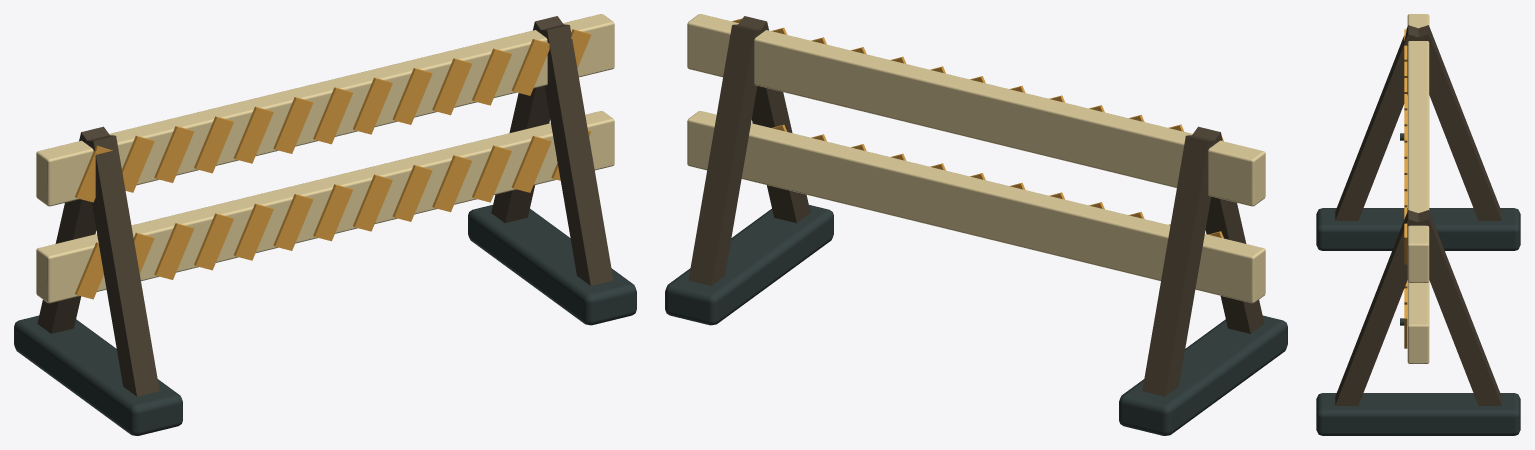
Rendered from SM_Checkpoint_01.glb.
3 views of the same model, side by side, from view 1: azimuth 30°, elevation 25°; view 2: azimuth 150°, elevation 25°; view 3: azimuth 270°, elevation 25° (orthographic). The views are drawn at different scales.
Visible parts, largest first — view 1: SM_Checkpoint_01_M_DH_cream, SM_Checkpoint_01_M_DH_ochre, SM_Checkpoint_01_M_DH_woodDark, SM_Checkpoint_01_M_DH_iron; view 2: SM_Checkpoint_01_M_DH_cream, SM_Checkpoint_01_M_DH_woodDark, SM_Checkpoint_01_M_DH_iron, SM_Checkpoint_01_M_DH_ochre; view 3: SM_Checkpoint_01_M_DH_woodDark, SM_Checkpoint_01_M_DH_iron, SM_Checkpoint_01_M_DH_cream, SM_Checkpoint_01_M_DH_ochre.
Boxes of the visible parts, x1,y1,x2,y2 form: SM_Checkpoint_01_M_DH_cream: (36,14,614,303); SM_Checkpoint_01_M_DH_ochre: (75,29,591,299); SM_Checkpoint_01_M_DH_woodDark: (37,16,613,396); SM_Checkpoint_01_M_DH_iron: (14,205,636,435); SM_Checkpoint_01_M_DH_cream: (687,14,1265,303); SM_Checkpoint_01_M_DH_woodDark: (688,16,1264,396); SM_Checkpoint_01_M_DH_iron: (665,205,1287,435); SM_Checkpoint_01_M_DH_ochre: (732,18,1223,238); SM_Checkpoint_01_M_DH_woodDark: (1335,25,1501,405); SM_Checkpoint_01_M_DH_iron: (1316,208,1520,435); SM_Checkpoint_01_M_DH_cream: (1407,14,1429,363); SM_Checkpoint_01_M_DH_ochre: (1404,29,1407,348).
Size of the model in its own units: 3 by 1.29 by 1.12.
